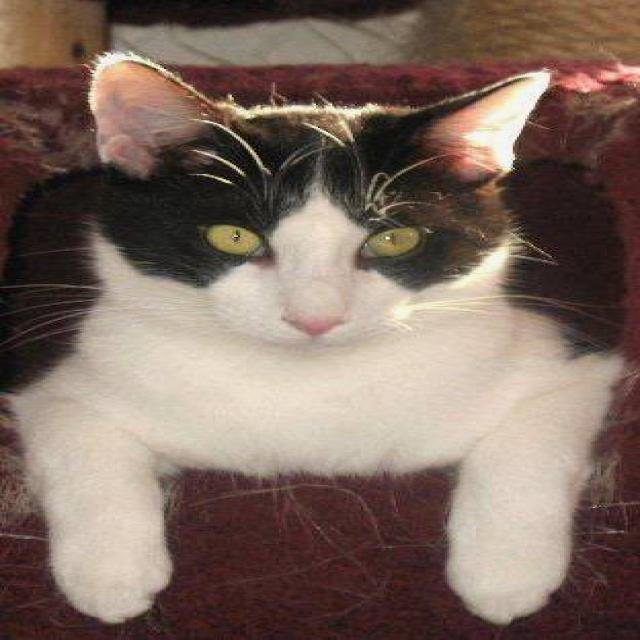Kucing: (10, 6, 640, 632)
